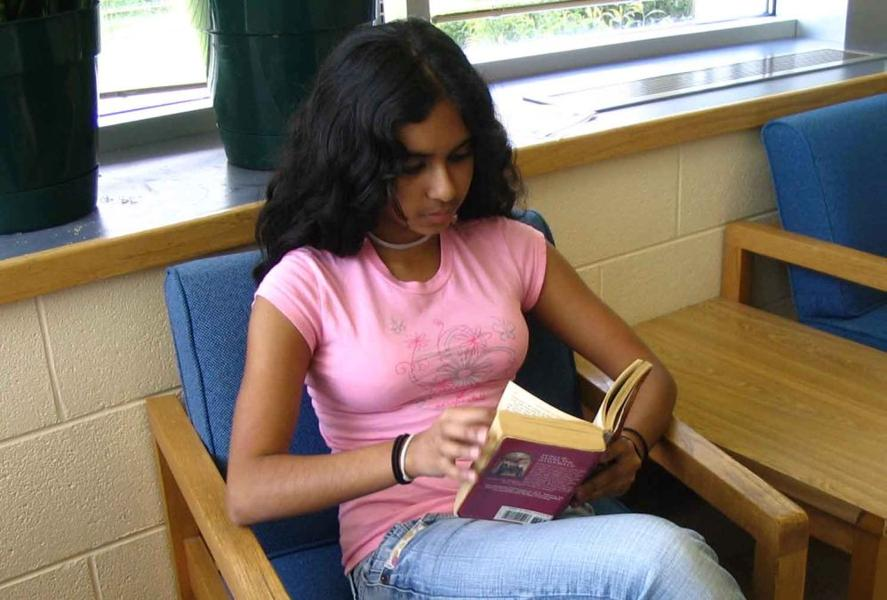person: (228, 19, 748, 600)
